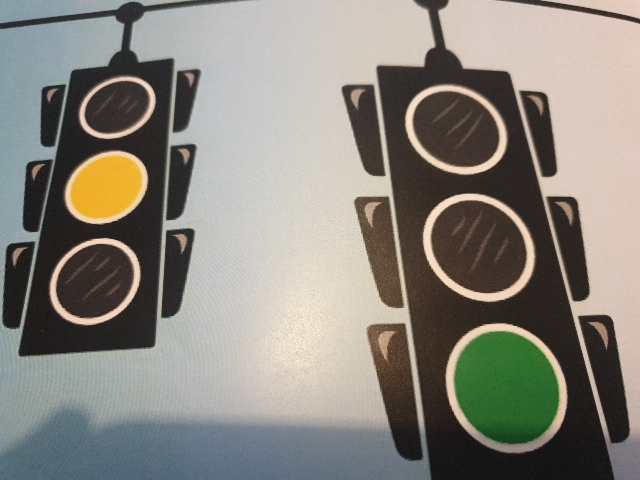amber: (69, 75, 141, 325)
green: (400, 85, 564, 458)
